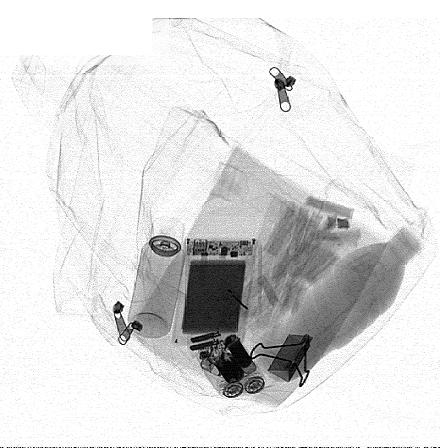Lighter: (186, 239, 210, 318)
Powerbank: (170, 237, 258, 345)
Sprayer: (127, 214, 187, 340)
